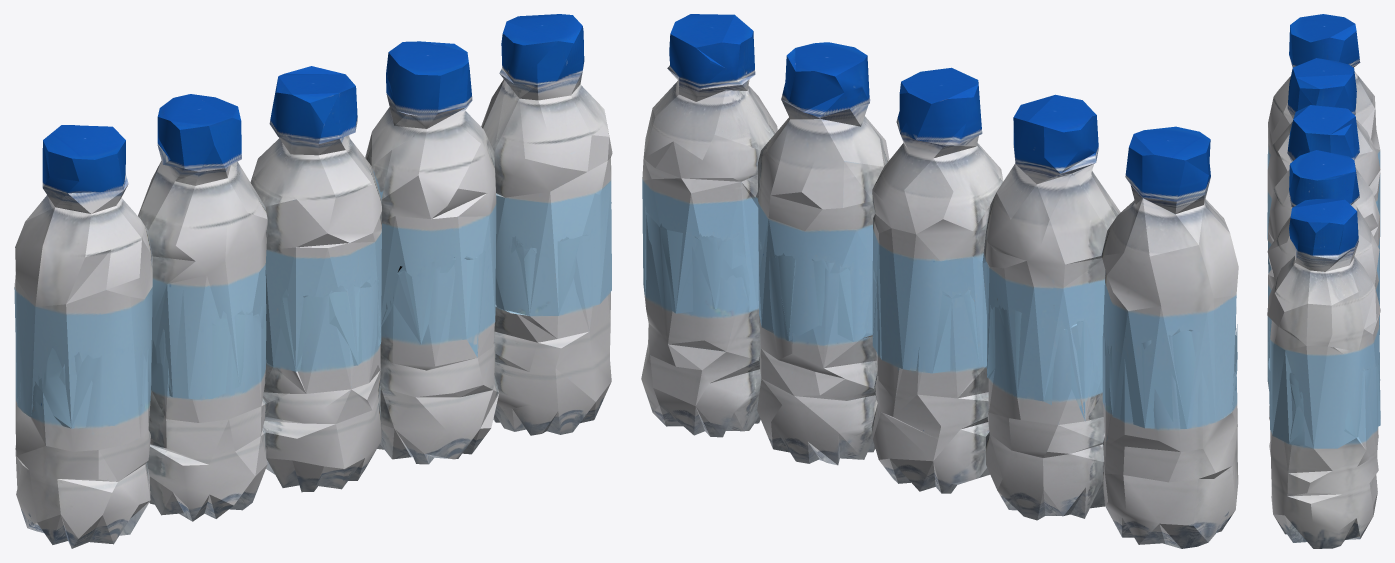
File: remeshed-water.glb
3 renders of one model, left to right at view 1: azimuth 30°, elevation 25°; view 2: azimuth 150°, elevation 25°; view 3: azimuth 270°, elevation 25°, orthographic. The views are drawn at different scales.
Parts seen in each view (by area): view 1: output_unwrapped; view 2: output_unwrapped; view 3: output_unwrapped.
Part boxes in pixels (x1,y1,x2,y2): output_unwrapped: (14,14,612,548); output_unwrapped: (641,14,1238,548); output_unwrapped: (1267,14,1380,548).
Bounding box in the file's own units: 1.89 × 1.23 × 0.3901.
1 material, 1 textured.
